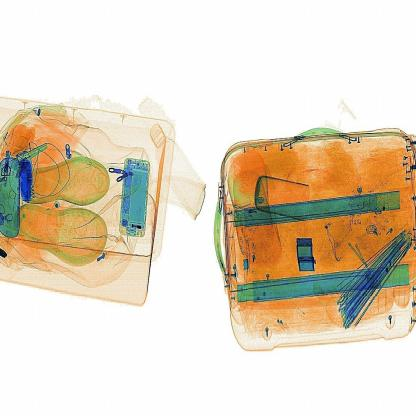scissors: (18, 153, 39, 206)
